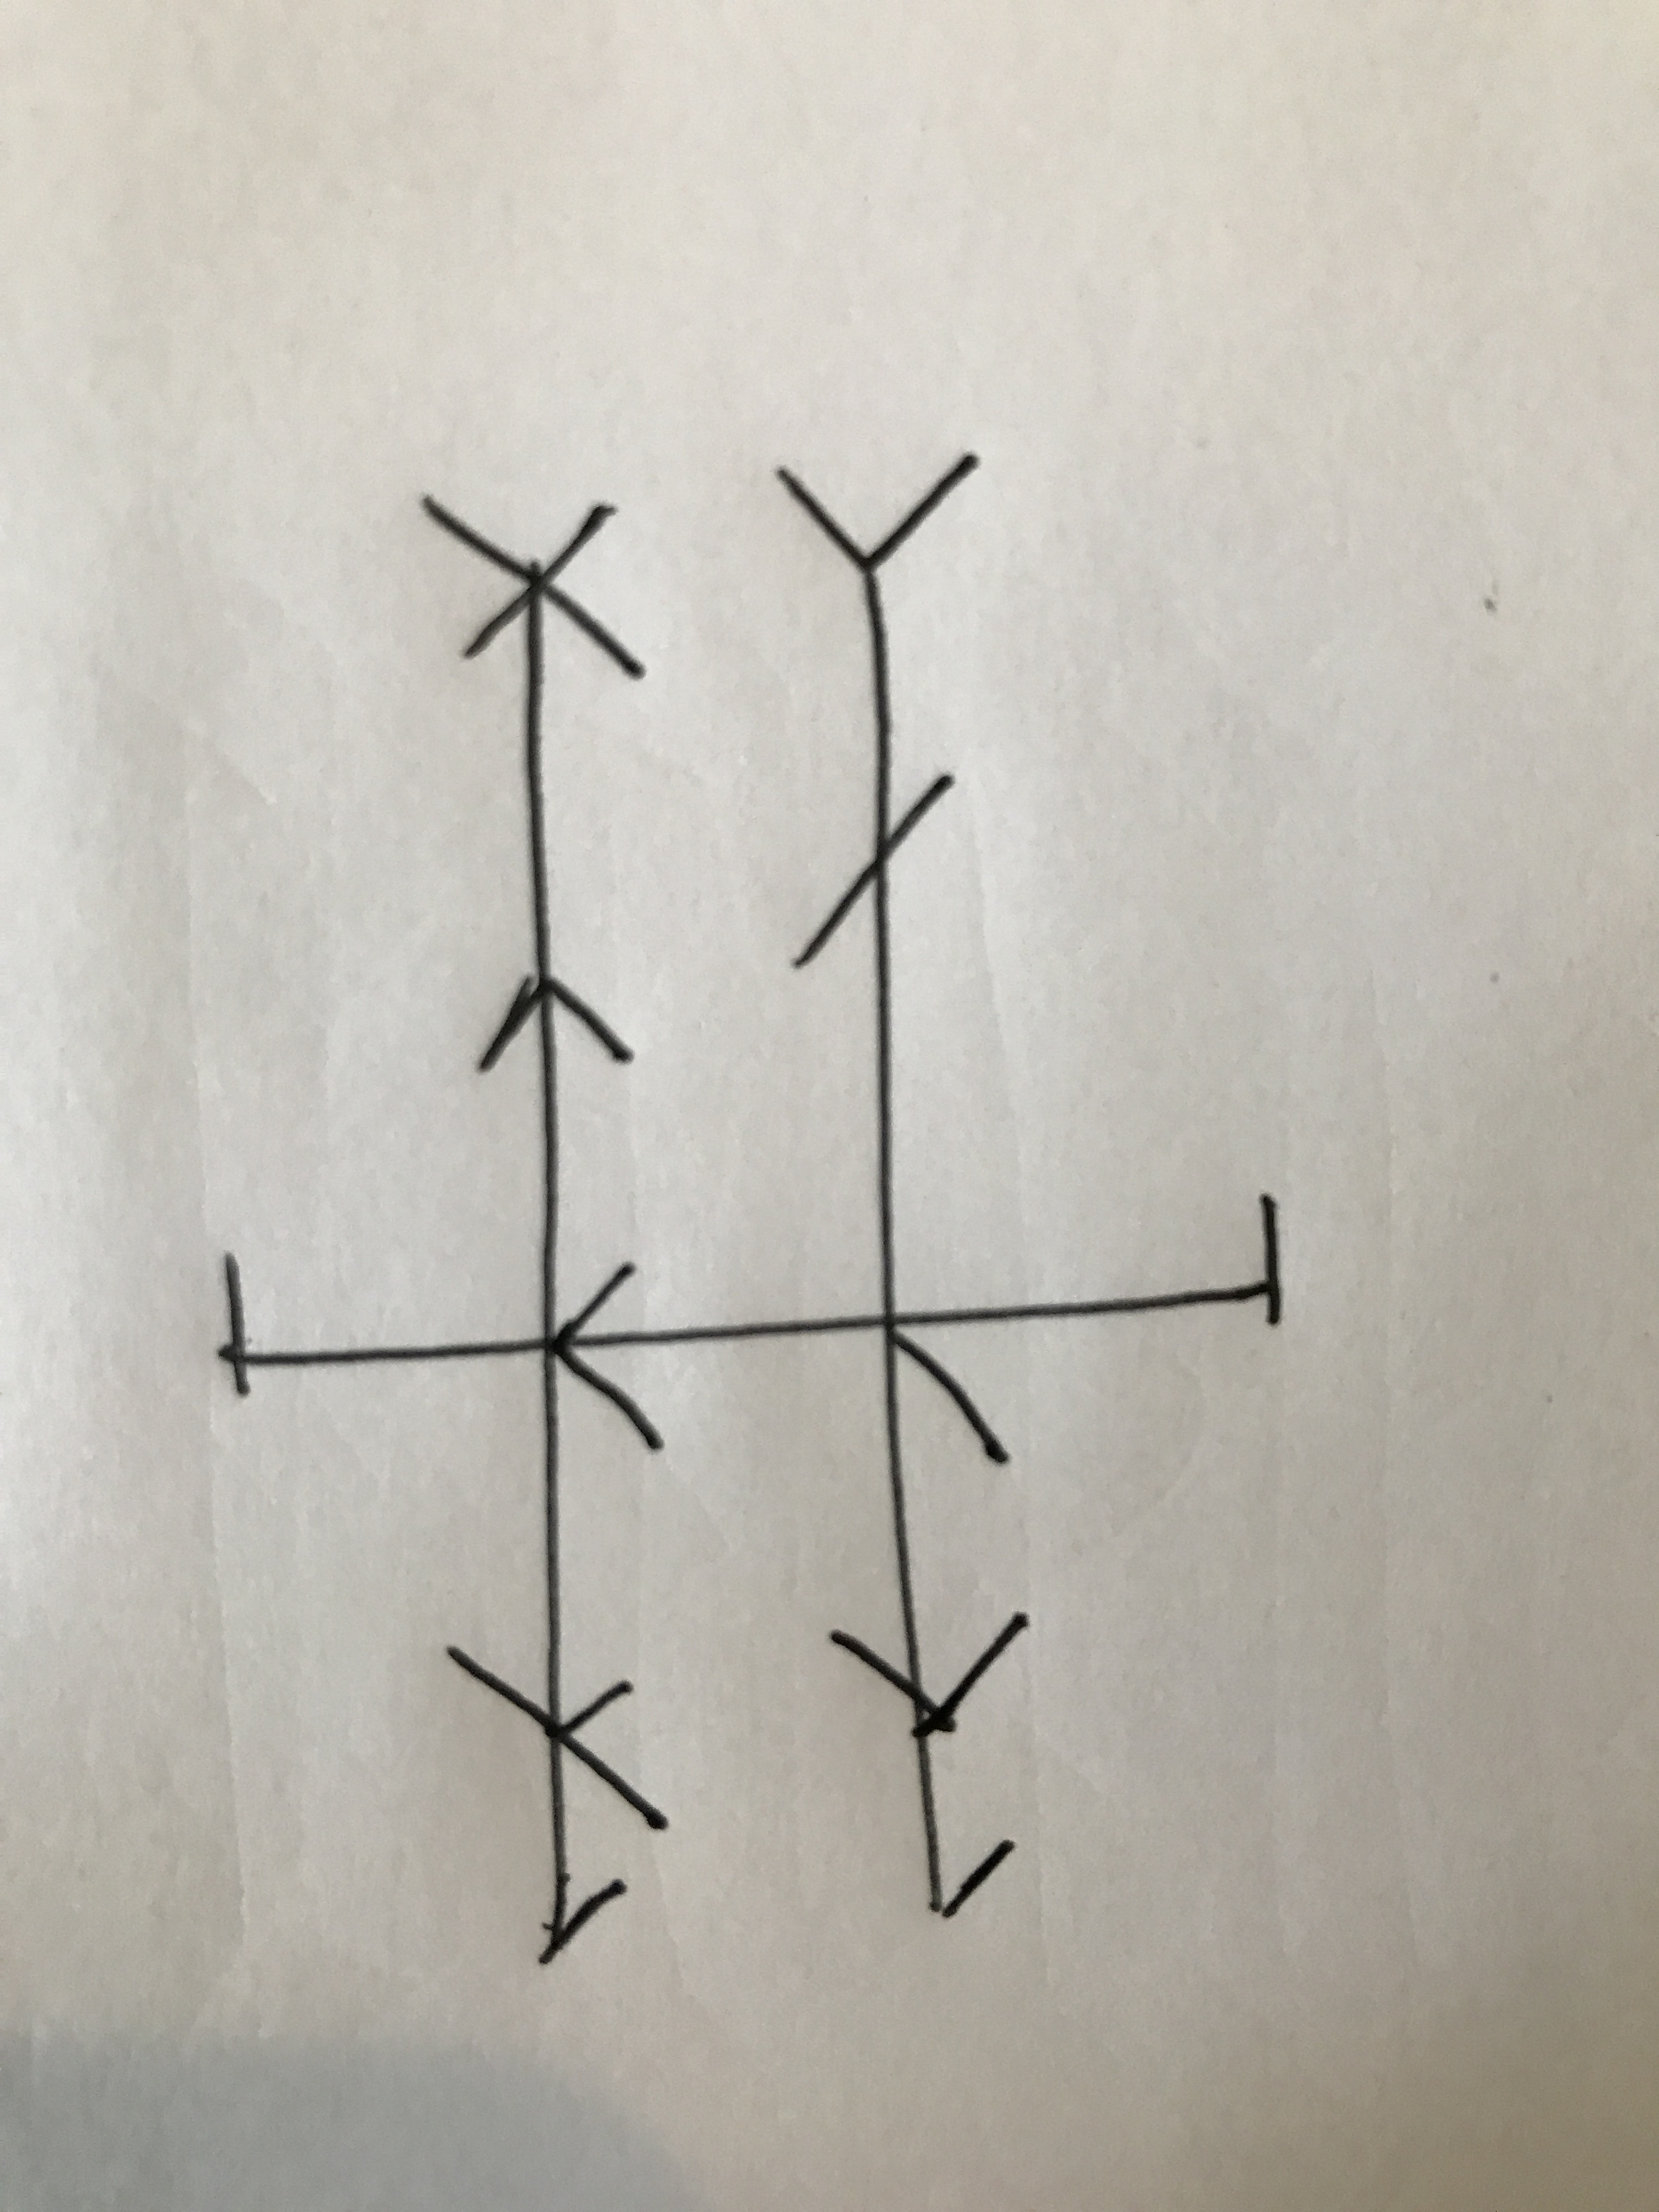Bar: (775, 455, 1033, 1919), (415, 493, 667, 1965)
Barcode: (218, 453, 1281, 1968)
End: (897, 1191, 1281, 1332)
Start: (218, 1249, 538, 1397)
